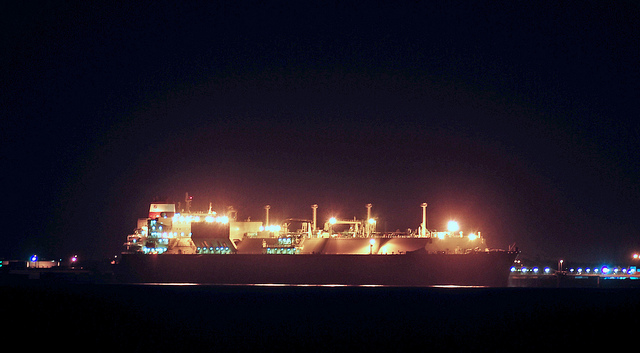tug_boat: (117, 201, 518, 284)
